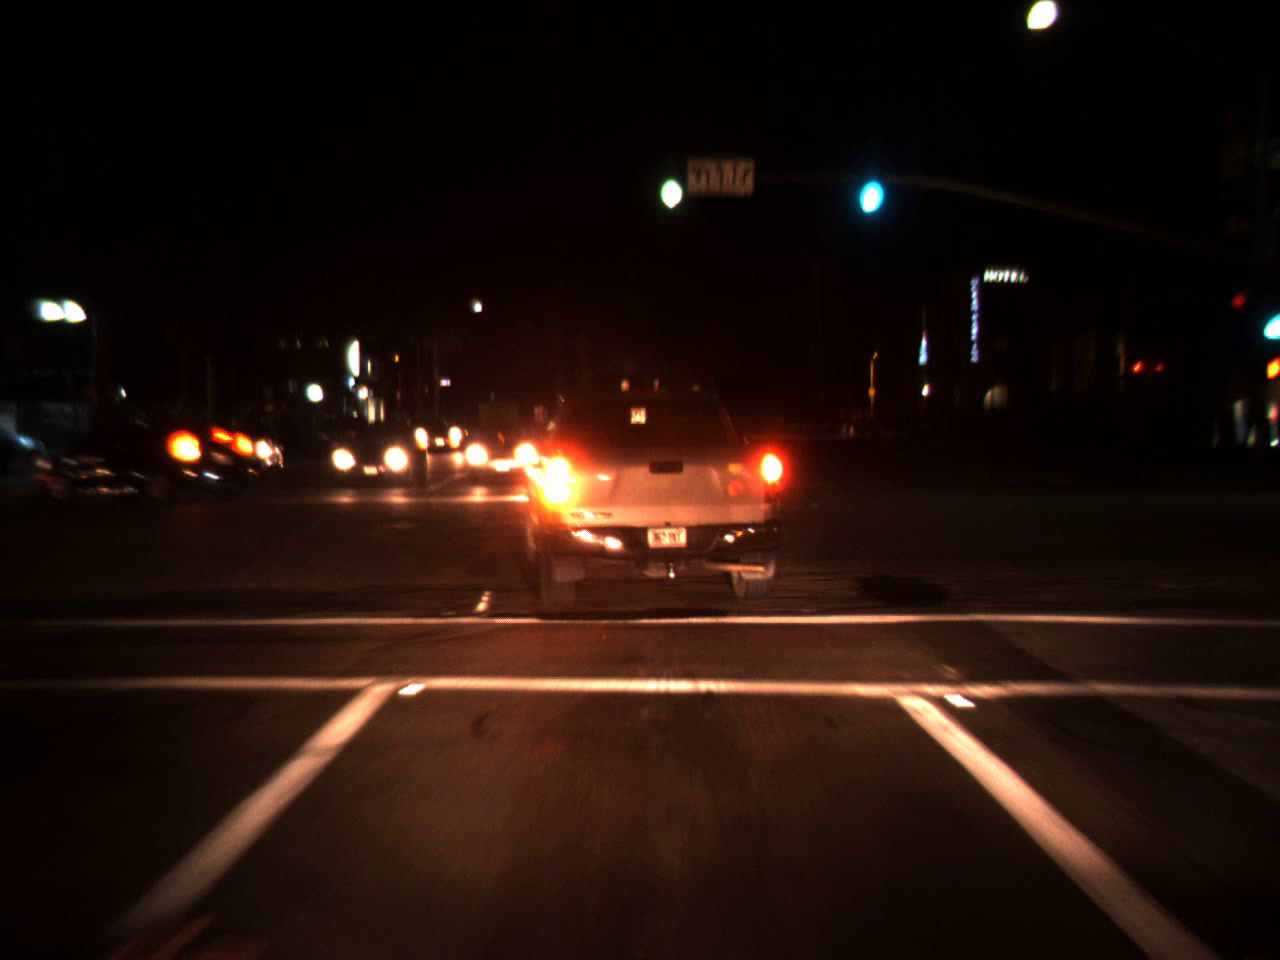go: (847, 145, 886, 226), (654, 144, 686, 219), (1265, 296, 1279, 344)
